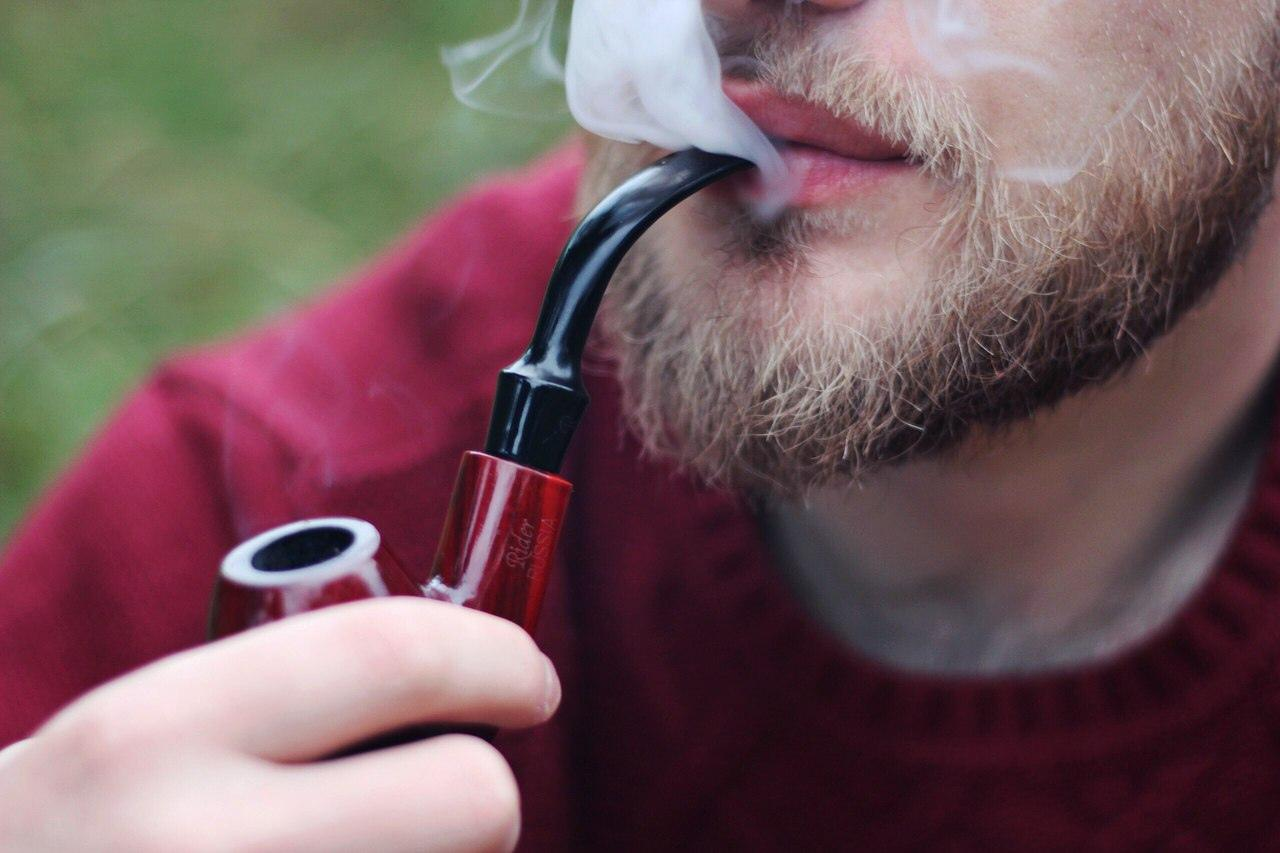trubka: (209, 145, 755, 639)
